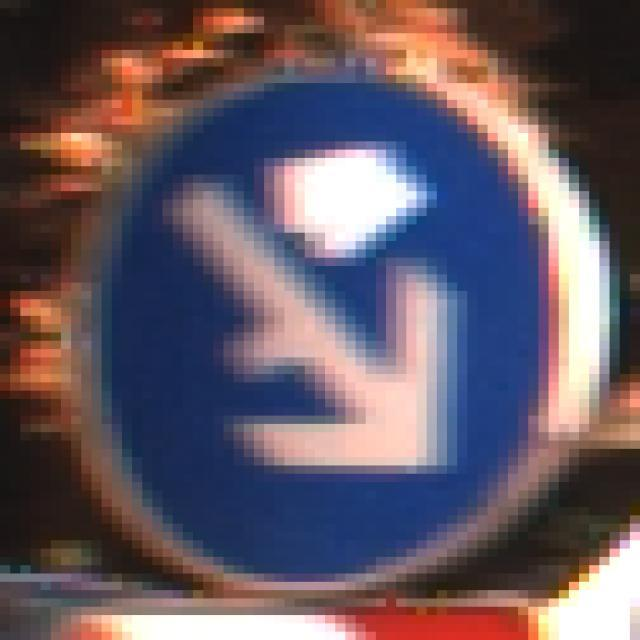compulsary keep right: (78, 65, 618, 595)
